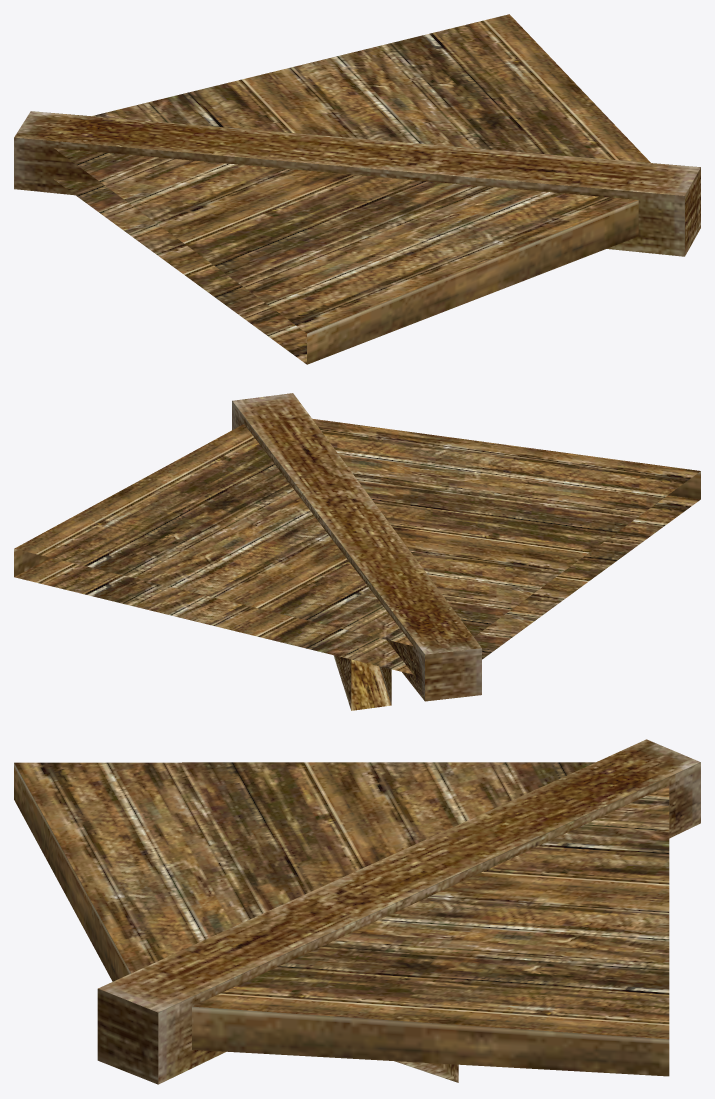
3 renders of one model, top to bottom at view 1: azimuth 30°, elevation 25°; view 2: azimuth 150°, elevation 25°; view 3: azimuth 270°, elevation 25°, orthographic. The views are drawn at different scales.
Visible parts, largest first — view 1: cc87-col; view 2: cc87-col; view 3: cc87-col.
Boxes of the visible parts, x1,y1,x2,y2 form: cc87-col: (14, 14, 700, 364); cc87-col: (14, 393, 700, 710); cc87-col: (14, 739, 700, 1084).
Bounding box in the file's own units: 4.65 × 1.63 × 4.62.
Materials: 2 (2 with a texture image).
